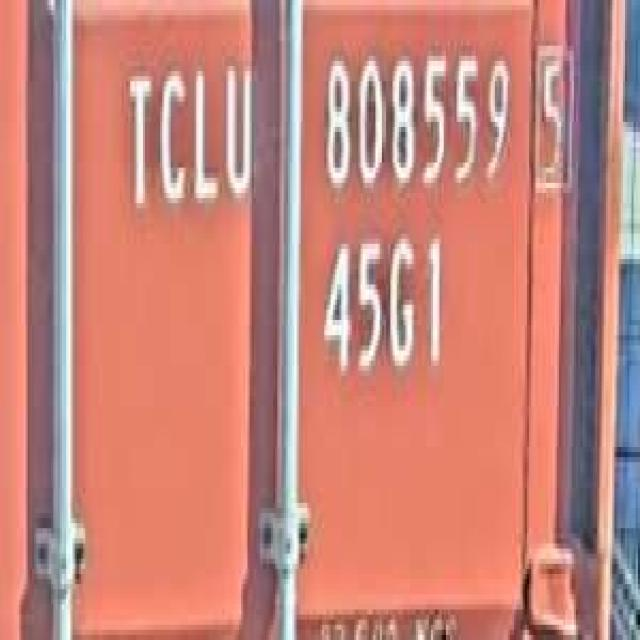dv: (529, 31, 578, 198)
owner: (119, 45, 256, 228)
serial: (316, 30, 514, 208)
size: (316, 224, 450, 391)
